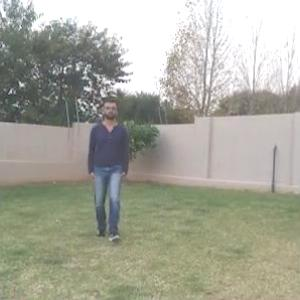follow: (90, 100, 126, 238)
